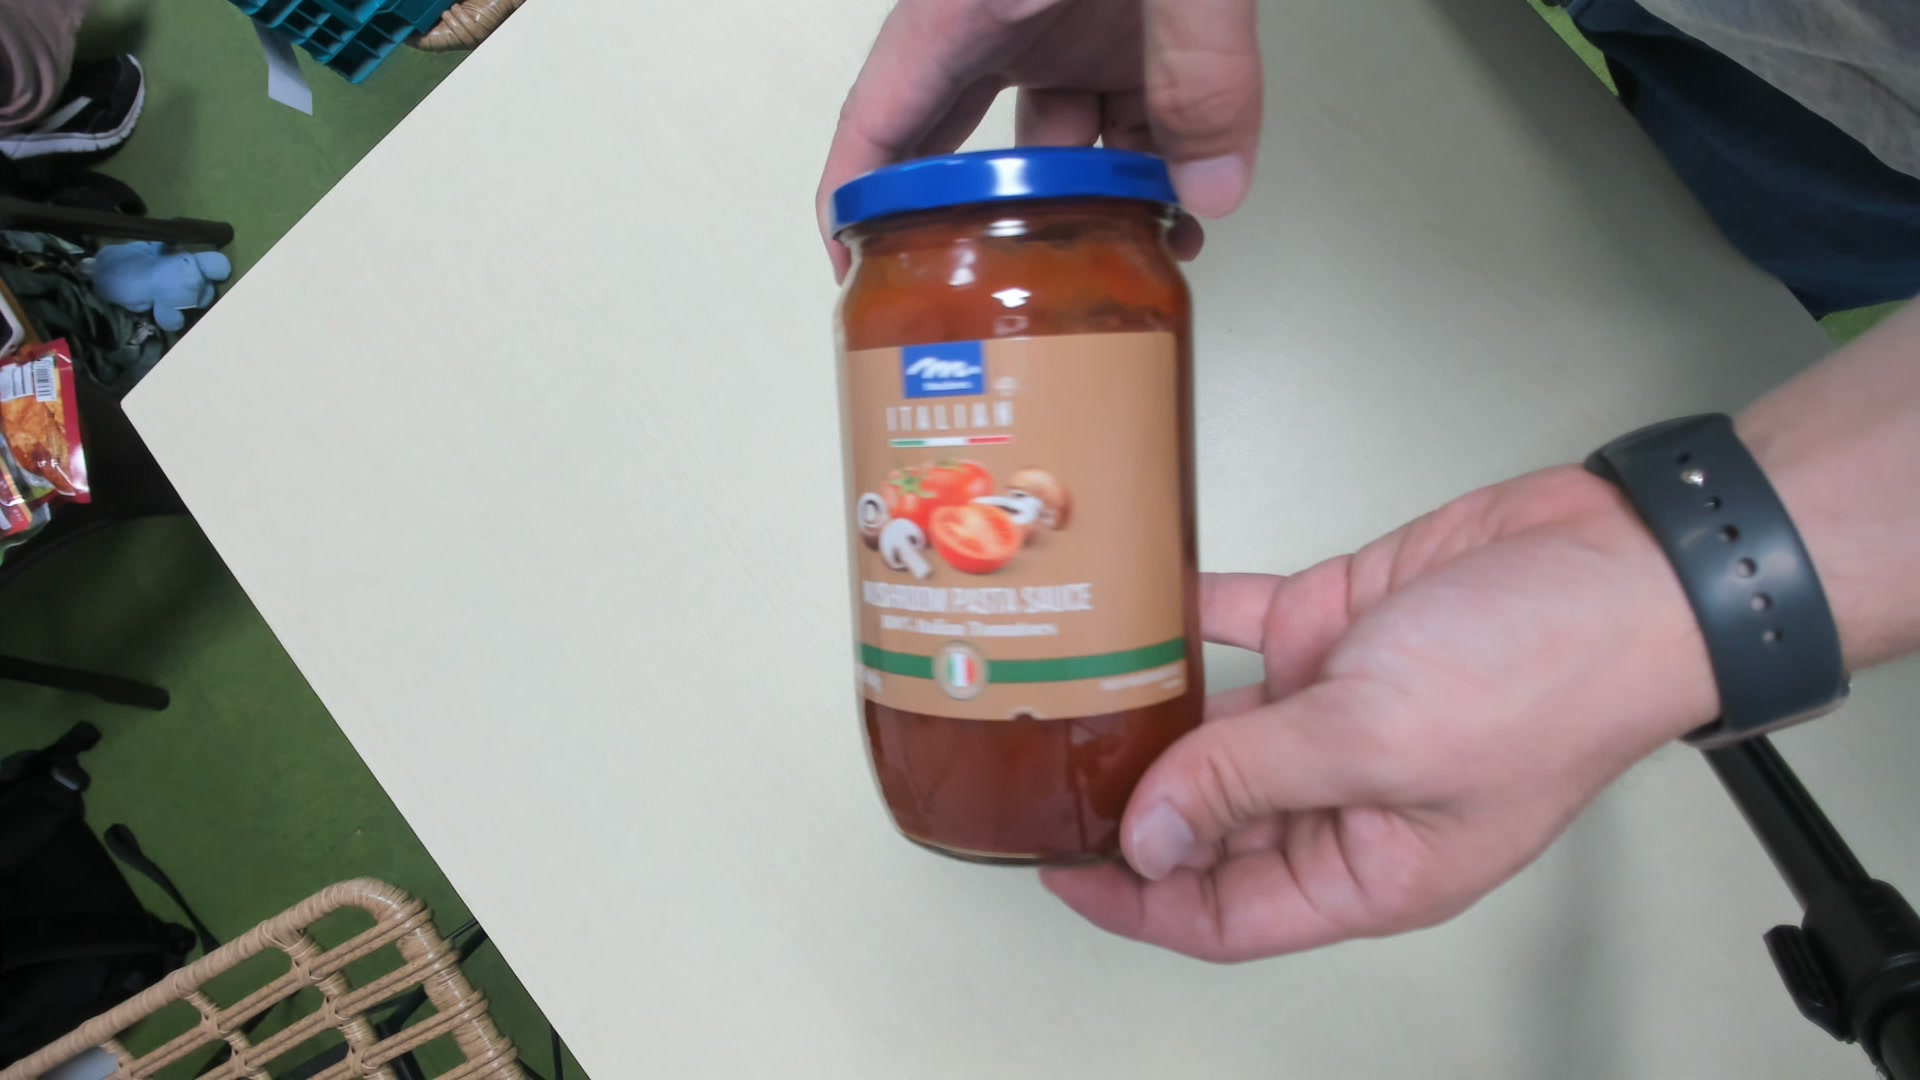PastaSauce_600-699g_Halal_NonHealthy: (828, 146, 1200, 868)
